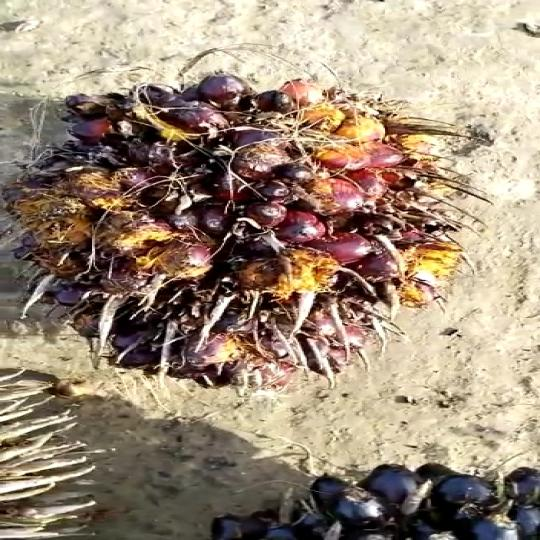masak: (32, 63, 483, 396)
